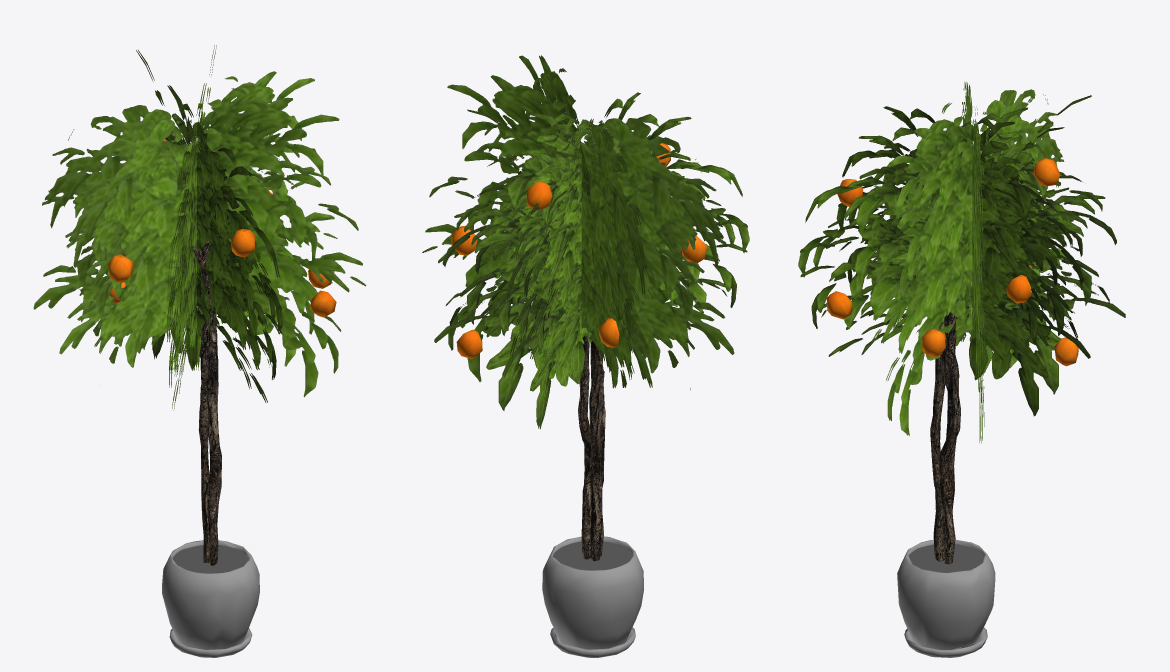
File: huapen.FBX
3 views of the same model, side by side, from view 1: azimuth 30°, elevation 25°; view 2: azimuth 150°, elevation 25°; view 3: azimuth 270°, elevation 25° (orthographic). The views are drawn at different scales.
Parts seen in each view (by area): view 1: Plane003, Arch41_032_obj_031, Arch41_032_obj_030, Arch41_032_obj_026, Arch41_032_obj_034; view 2: Plane003, Arch41_032_obj_031, Arch41_032_obj_030, Arch41_032_obj_026, Arch41_032_obj_034; view 3: Plane003, Arch41_032_obj_031, Arch41_032_obj_030, Arch41_032_obj_026, Arch41_032_obj_034.
Boxes of the visible parts, box(x1,y1,x2,y2) form: Plane003: box(33, 45, 366, 410); Arch41_032_obj_031: box(162, 540, 259, 657); Arch41_032_obj_030: box(192, 239, 221, 565); Arch41_032_obj_026: box(108, 139, 336, 317); Arch41_032_obj_034: box(172, 545, 248, 573); Plane003: box(422, 55, 749, 429); Arch41_032_obj_031: box(542, 536, 643, 657); Arch41_032_obj_030: box(578, 336, 605, 561); Arch41_032_obj_026: box(451, 143, 707, 358); Arch41_032_obj_034: box(553, 541, 632, 570); Plane003: box(798, 81, 1125, 443); Arch41_032_obj_031: box(897, 540, 995, 657); Arch41_032_obj_030: box(930, 312, 960, 564); Arch41_032_obj_026: box(826, 158, 1078, 366); Arch41_032_obj_034: box(908, 544, 984, 572).
Size of the model in its own units: 861 by 1433 by 863.
5 materials, 3 textured.
